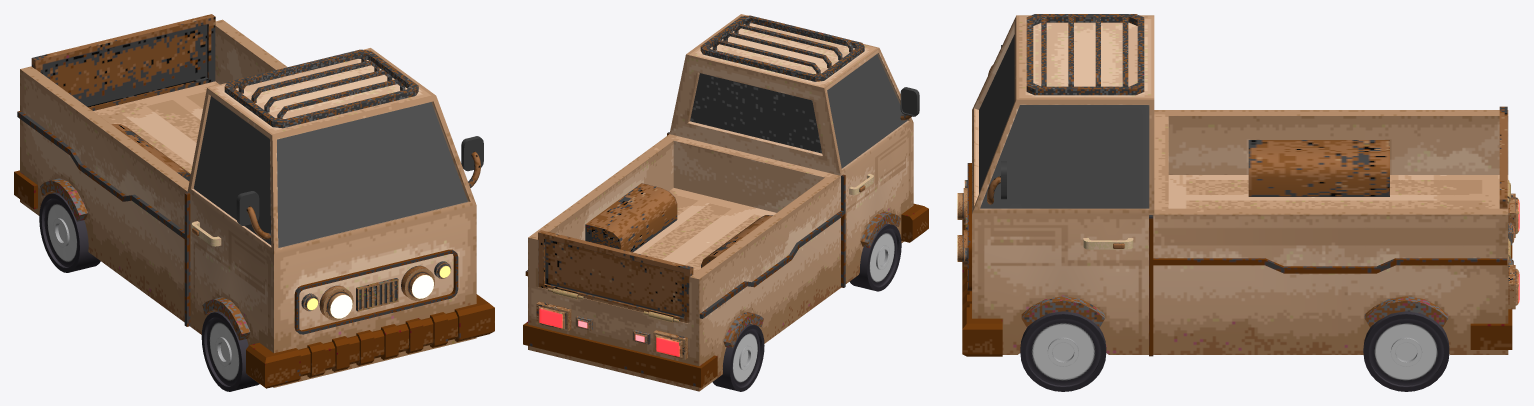
Rendered from Stylized_Low-_Poly_Pickup_Truck.glb.
3 renders of one model, left to right at view 1: azimuth 30°, elevation 25°; view 2: azimuth 150°, elevation 25°; view 3: azimuth 270°, elevation 25°, orthographic. The views are drawn at different scales.
Parts seen in each view (by area): view 1: Car_Car 01_0, Tailgate _Car 01_0, B R Wheel_Car 01_0, F R Wheel_Car 01_0; view 2: Car_Car 01_0, Tailgate _Car 01_0, F R Wheel_Car 01_0, B R Wheel_Car 01_0; view 3: Car_Car 01_0, F L Wheel_Car 01_0, B L Wheel_Car 01_0, Tailgate _Car 01_0.
Part boxes in pixels (x1,y1,x2,y2): Car_Car 01_0: (14, 19, 494, 388); Tailgate _Car 01_0: (31, 14, 215, 110); B R Wheel_Car 01_0: (39, 192, 100, 272); F R Wheel_Car 01_0: (201, 311, 259, 391); Car_Car 01_0: (523, 14, 928, 391); Tailgate _Car 01_0: (538, 230, 693, 323); F R Wheel_Car 01_0: (849, 223, 901, 291); B R Wheel_Car 01_0: (712, 324, 764, 391); Car_Car 01_0: (957, 14, 1519, 356); F L Wheel_Car 01_0: (1020, 311, 1106, 391); B L Wheel_Car 01_0: (1363, 311, 1449, 391); Tailgate _Car 01_0: (1499, 106, 1507, 208).
Bounding box in the file's own units: 2.71 × 2.92 × 5.11.
1 material, 1 textured.
